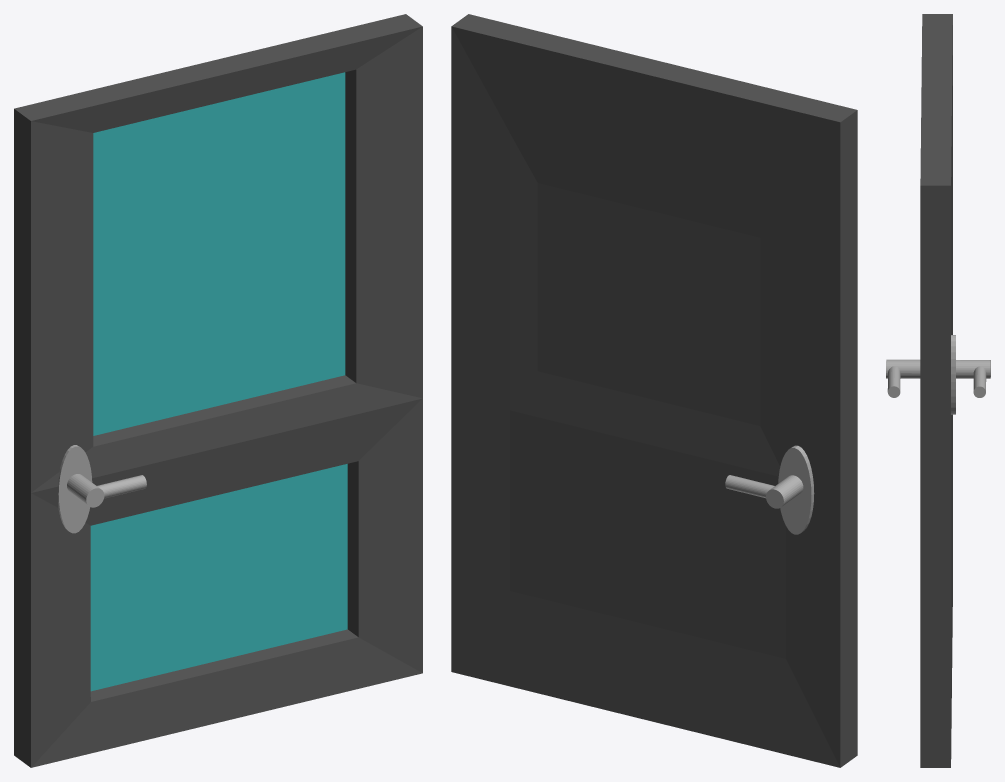
File: door.fbx
3 views of the same model, side by side, from view 1: azimuth 30°, elevation 25°; view 2: azimuth 150°, elevation 25°; view 3: azimuth 270°, elevation 25° (orthographic). The views are drawn at different scales.
Visible parts, largest first — view 1: Cube, Cube.001; view 2: Cube, Cube.001; view 3: Cube, Cube.001.
Part boxes in pixels (x1,y1,x2,y2): Cube: [14, 14, 422, 767]; Cube.001: [67, 474, 146, 507]; Cube: [451, 14, 857, 767]; Cube.001: [725, 475, 803, 508]; Cube: [920, 14, 955, 767]; Cube.001: [886, 359, 990, 397].
Bounding box in the file's own units: 142 × 225 × 36.67.
